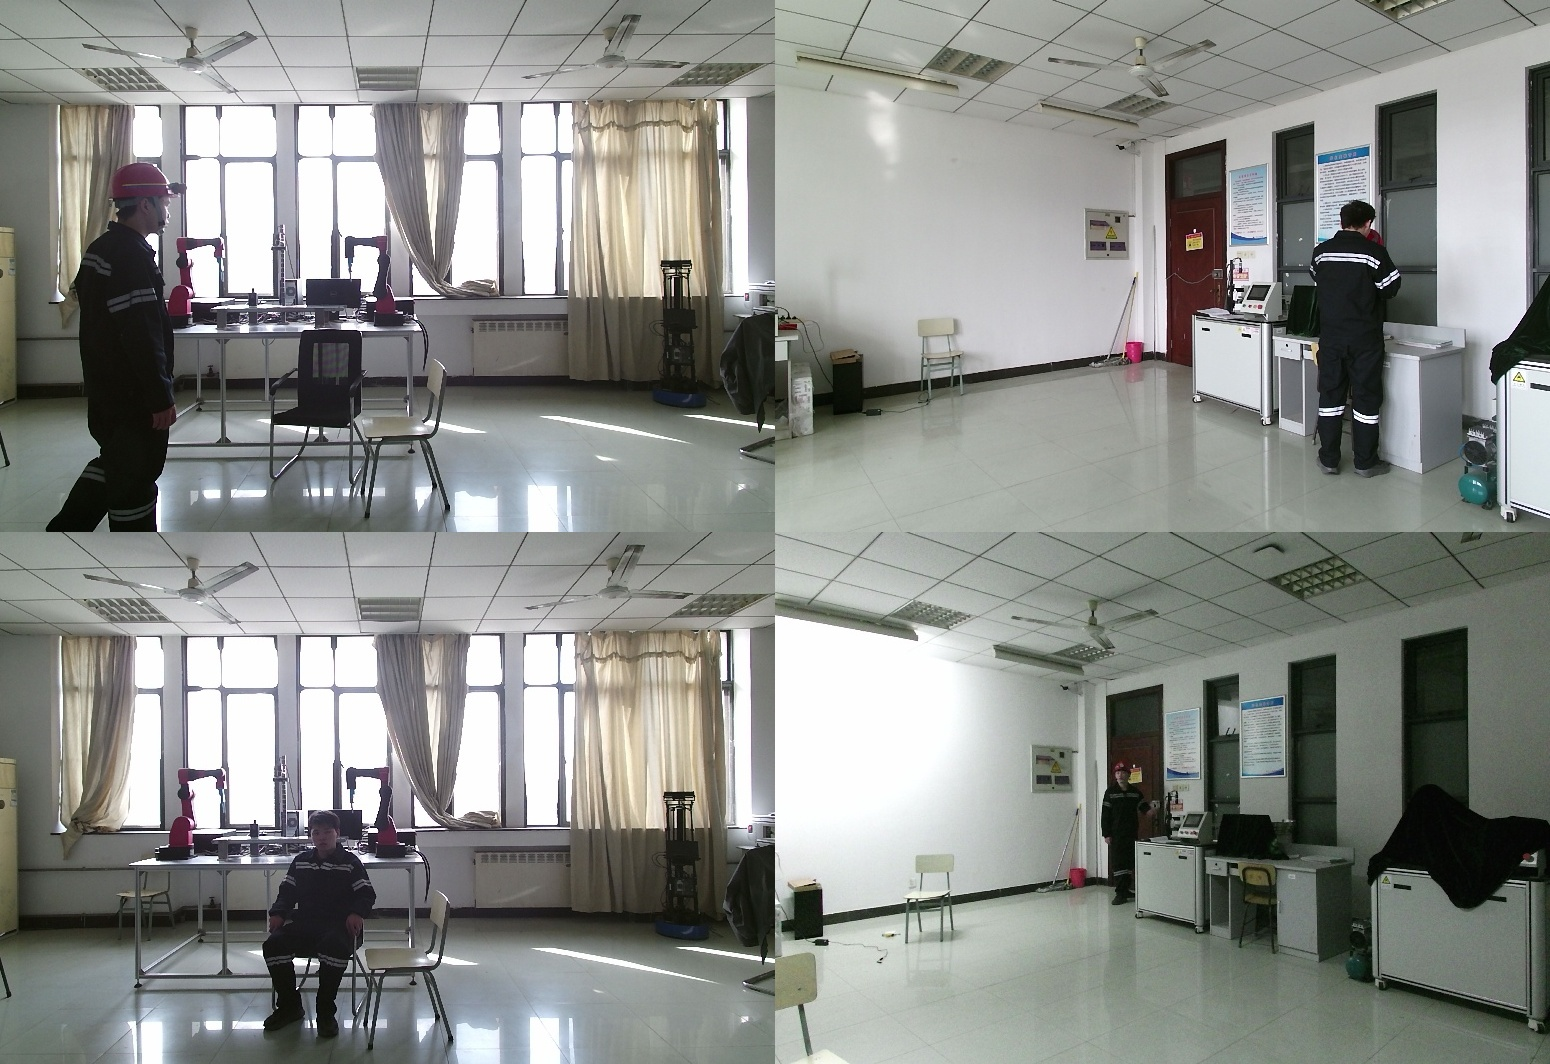person: (46, 163, 190, 532), (1305, 203, 1426, 474), (261, 812, 383, 1030), (1089, 765, 1144, 913)
